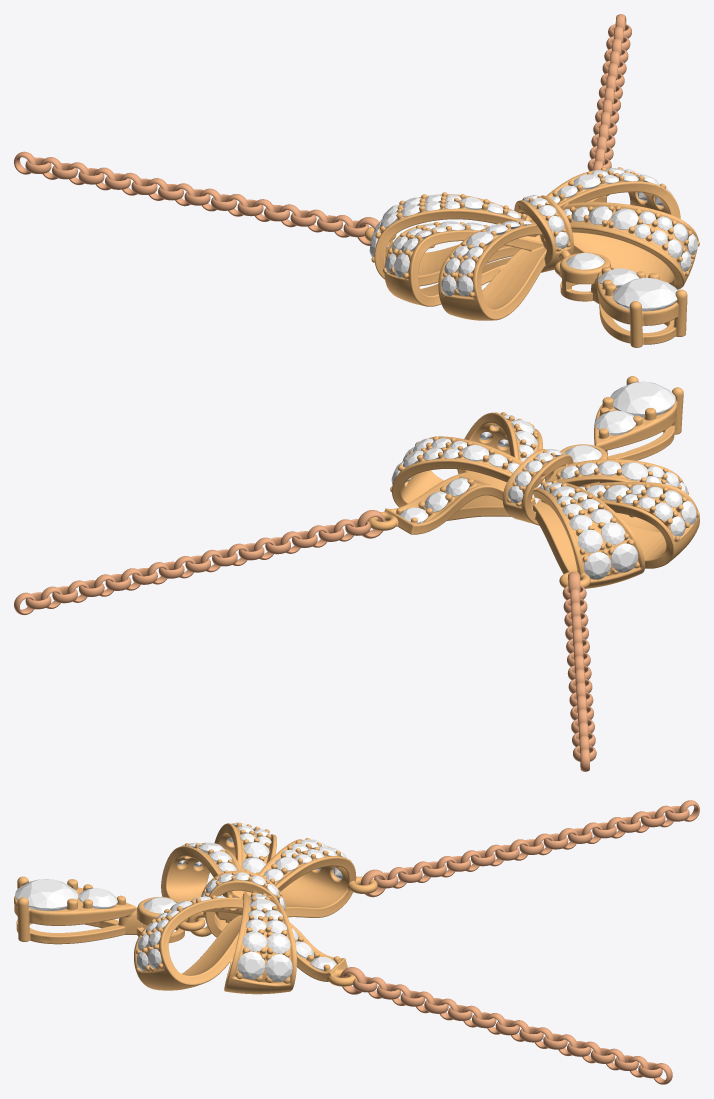
3 renders of one model, top to bottom at view 1: azimuth 30°, elevation 25°; view 2: azimuth 150°, elevation 25°; view 3: azimuth 270°, elevation 25°, orthographic. The views are drawn at different scales.
Parts seen in each view (by area): view 1: COLOR= MATERIAL= (×2), /Render.3dm, Diamond_Round; view 2: COLOR= MATERIAL= (×2), /Render.3dm, Diamond_Round (×3); view 3: COLOR= MATERIAL= (×2), /Render.3dm, Diamond_Round (×4).
Boxes of the visible parts, x1,y1,x2,y2 form: COLOR= MATERIAL= (×2): (369,167,699,347); /Render.3dm: (14,14,631,301); Diamond_Round: (612,277,677,311); COLOR= MATERIAL= (×2): (368,376,699,588); /Render.3dm: (14,444,607,771); Diamond_Round (×3): (595,381,675,572); COLOR= MATERIAL= (×2): (14,822,373,994); /Render.3dm: (137,800,699,1084); Diamond_Round (×4): (15,879,292,981).
Size of the model in its own units: 2.74 by 0.3642 by 2.88.
